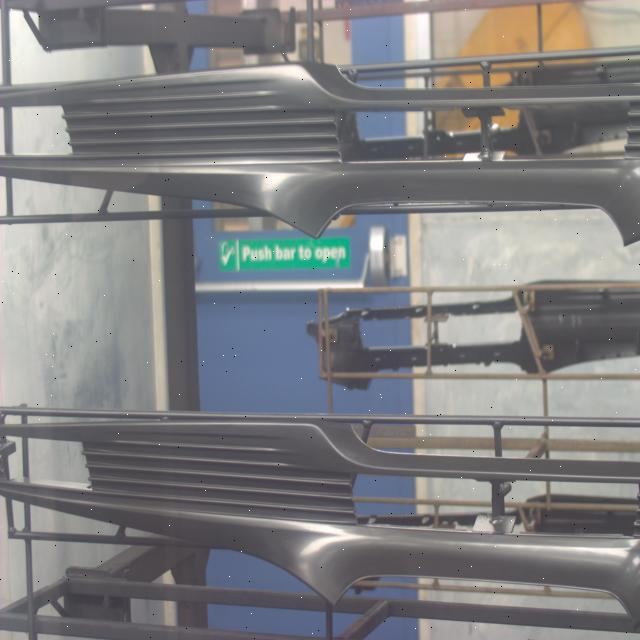Non_primered: (5, 416, 640, 602), (0, 61, 640, 241)
